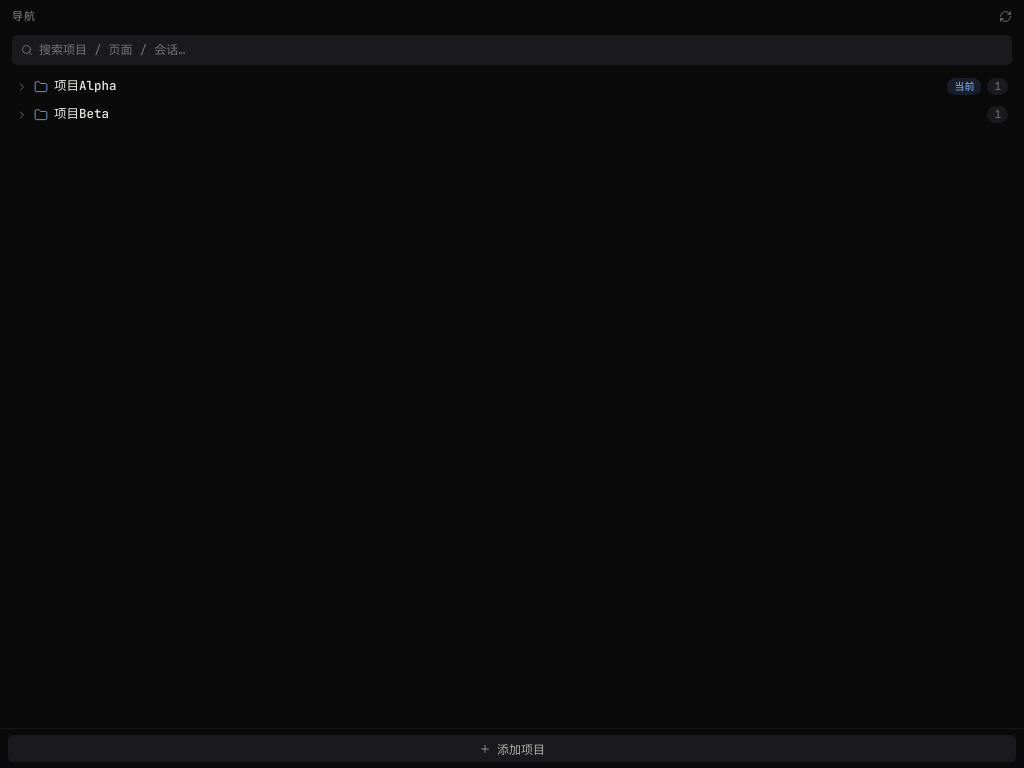
搜索过滤 › 页面名子串命中（不区分大小写）→ 该页面行显示、未命中页面行隐藏
Type "alpha" into the field with placeholder "搜索项目 / 页面 / 会话…". click: [521, 50]
box: [39,40,1003,58]
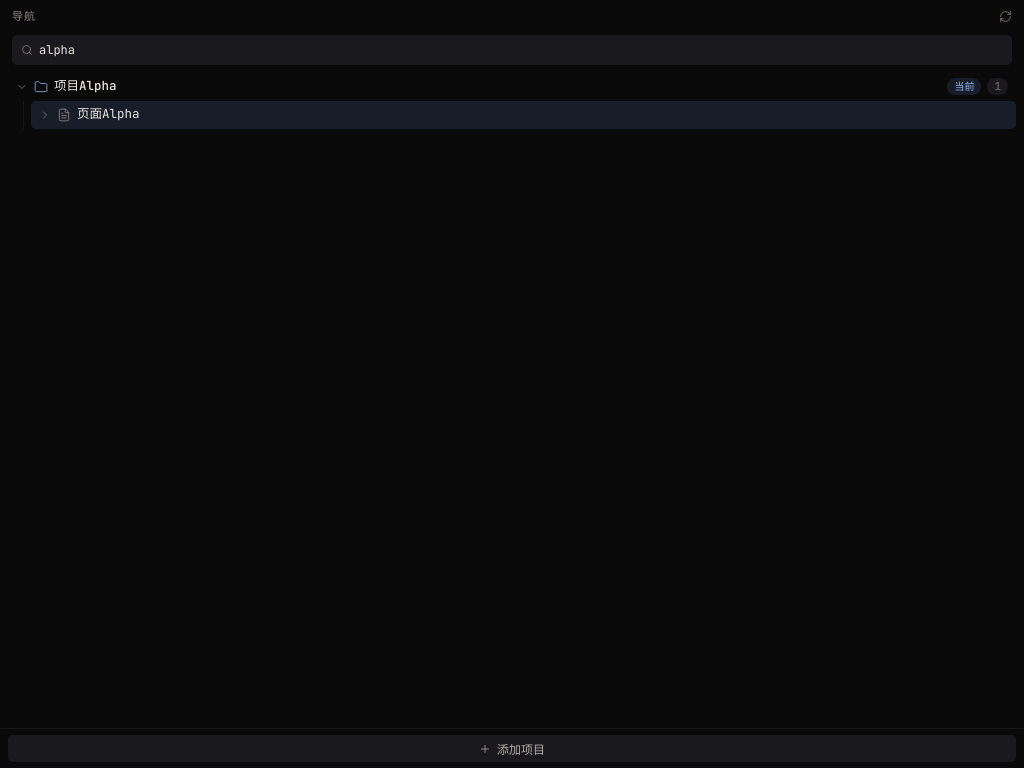
expect the element with test id "nav-row-page" reads "页面Alpha": met, box [77,105,140,122]
